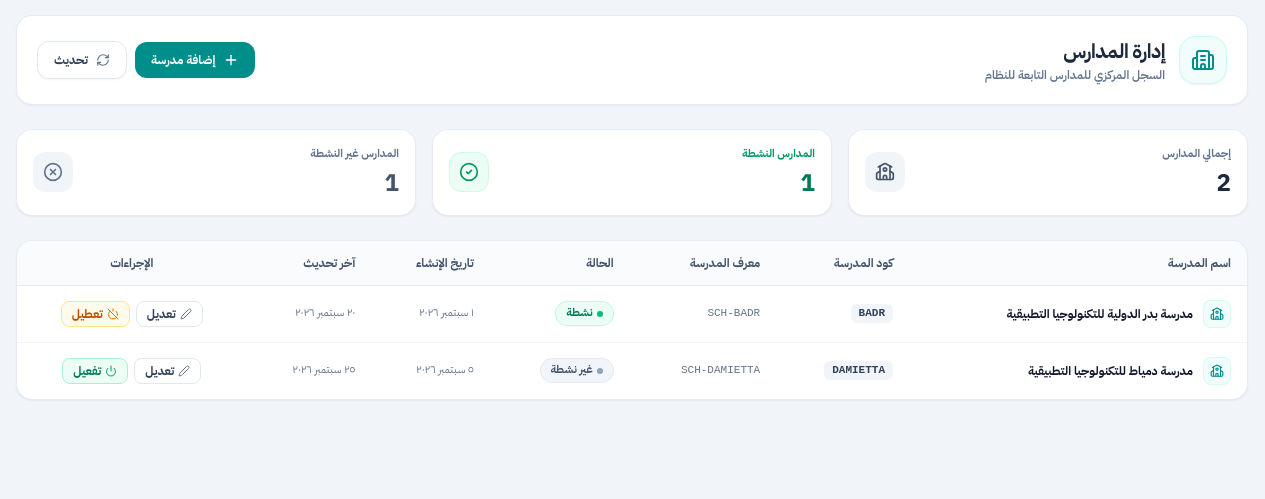
Test: PHASE 3C-A14.2.2 — SCHOOL CREATE / EDIT / STATUS UI › 4. Status Toggle: Activate & Deactivate › No optimistic UI update: failure keeps previous state intact
This screenshot has width=1265, height=499.
What coordinates should you click on to do the following:
click the button "تفعيل"
I would click on:
 (95, 370)
Its box is [62,358,128,384].
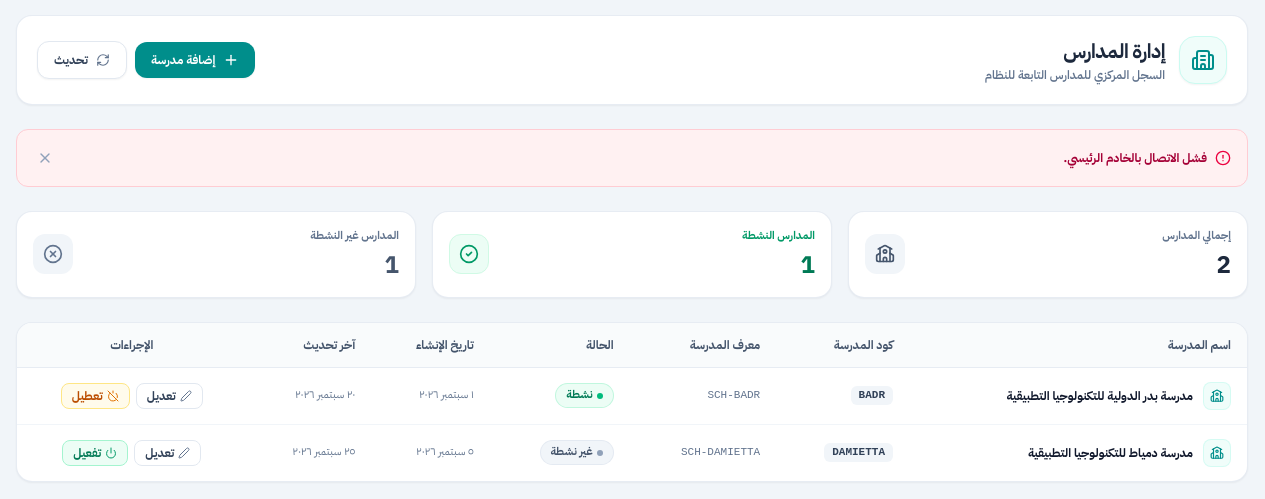
Expected: the row that starts with "مدرسة دمياط للتكنولوجيا التطبيقية" shows "غير نشطة", [550,443,593,460]
Now the text "فشل الاتصال بالخادم الرئيسي." is shown, box [1064,150,1207,166]
